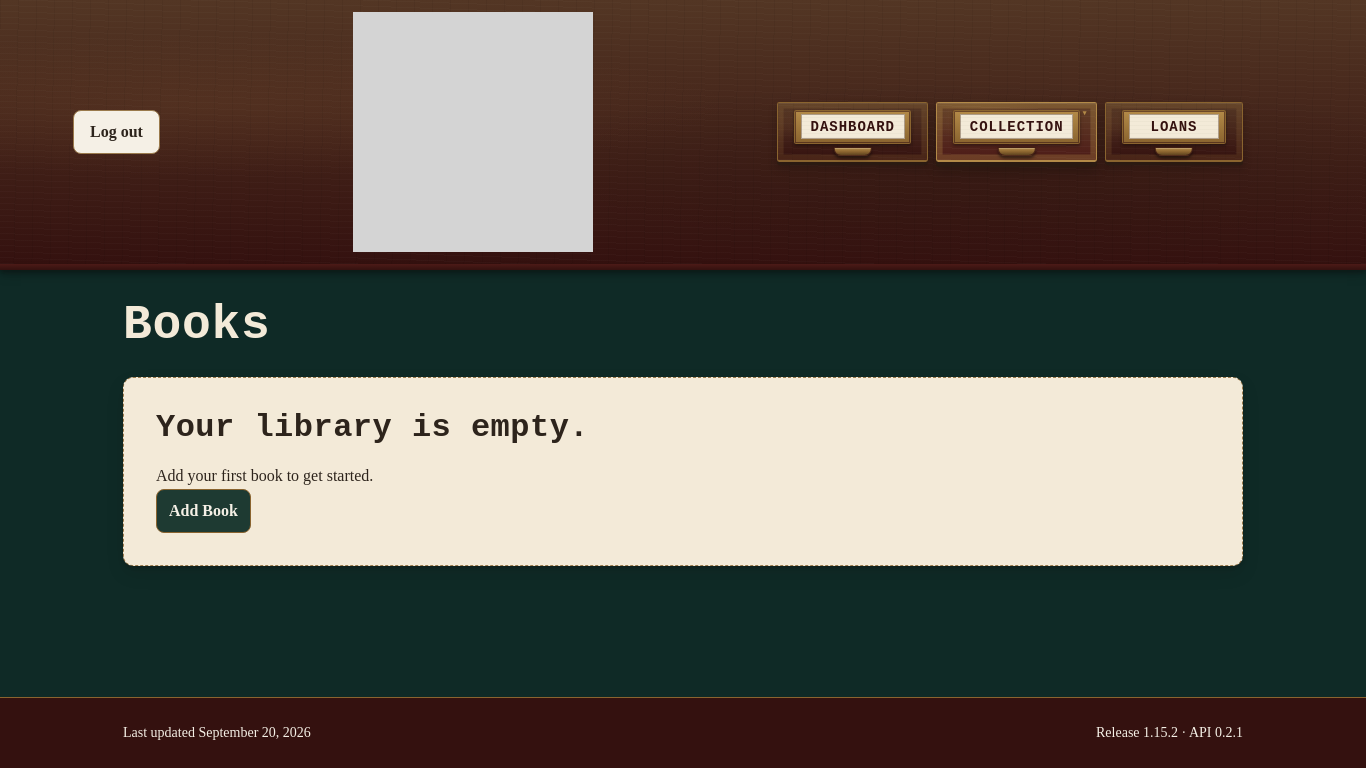
Test: application routing effects › updates the title and focuses the heading after client-side navigation
Click the link "Loans" at [1174, 132], box top-left (1105, 102), bottom-right (1243, 162)
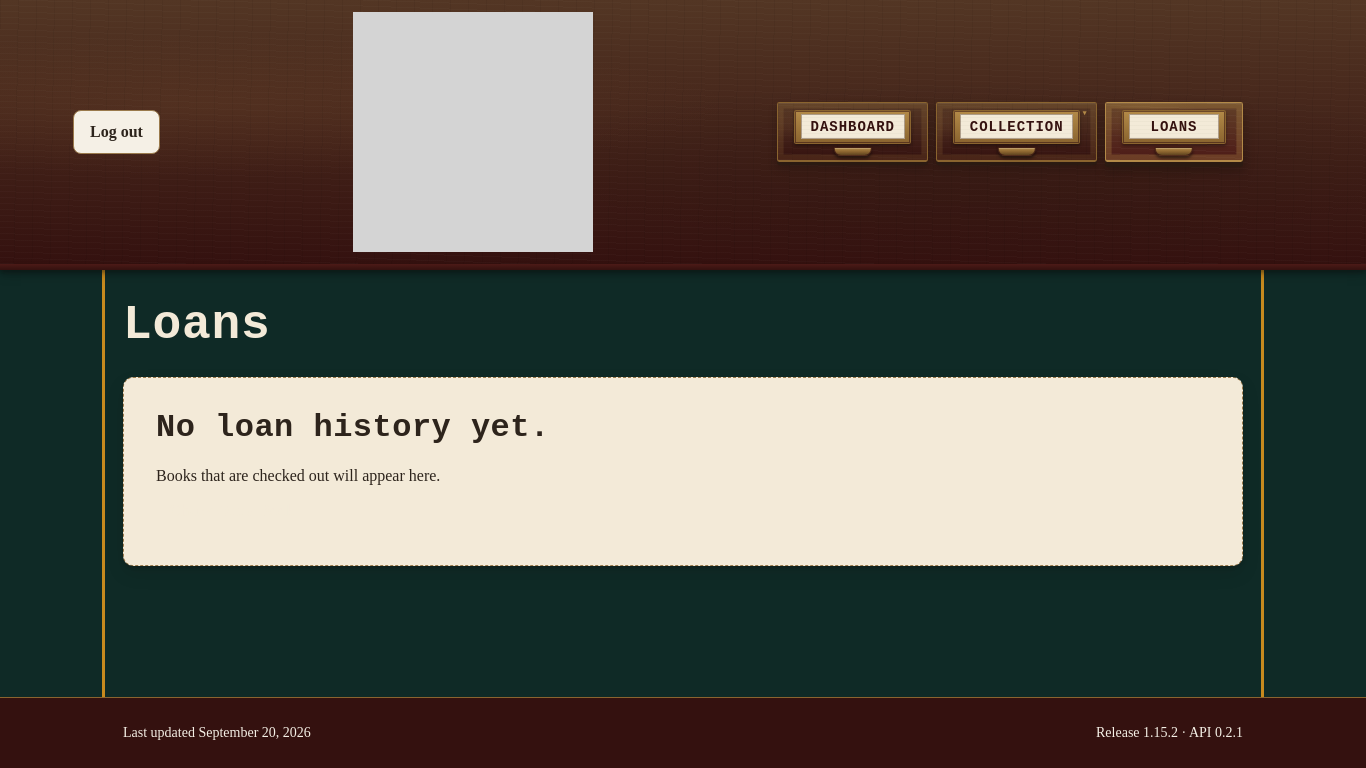
Expected: the heading "Loans" is shown, top-left (123, 298), bottom-right (271, 352)
